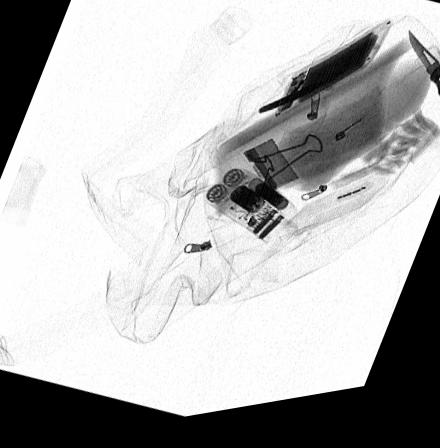Knife: (407, 44, 440, 113)
Powerbank: (273, 34, 390, 125)
Scissors: (256, 66, 368, 122)
